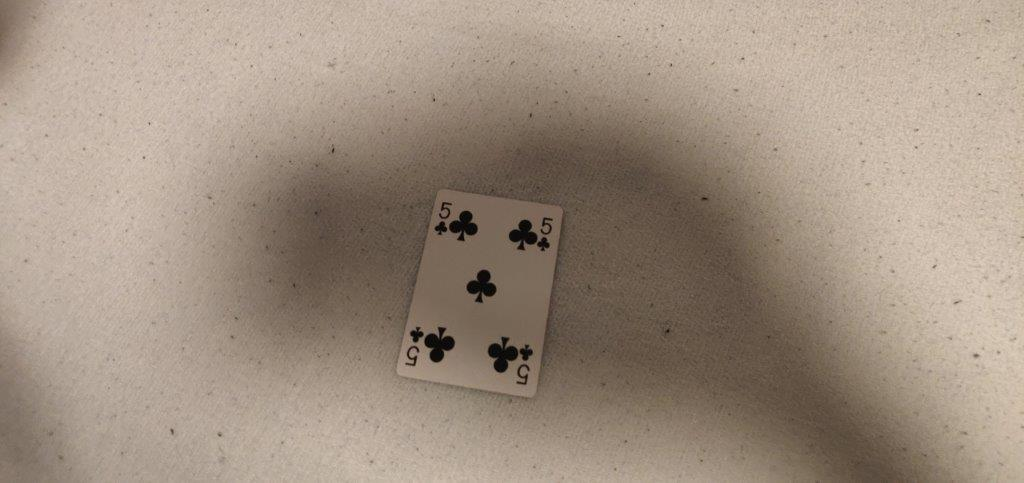5C: (430, 194, 453, 236), (535, 213, 555, 254)
